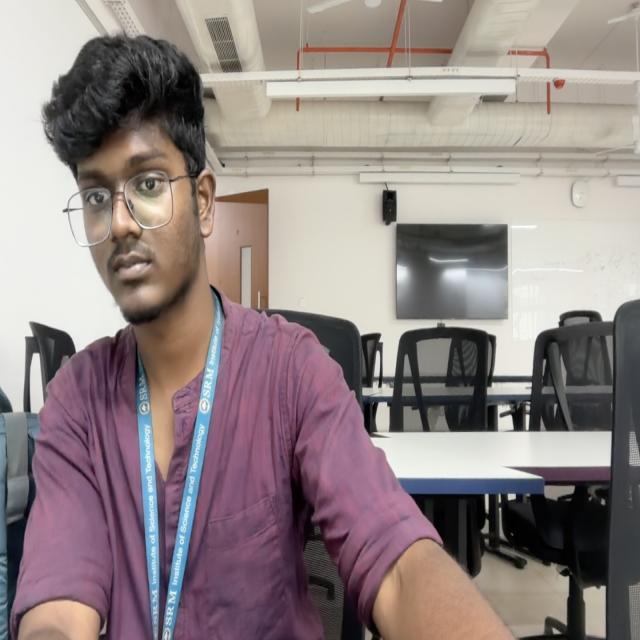ravindra: (41, 35, 216, 325)
